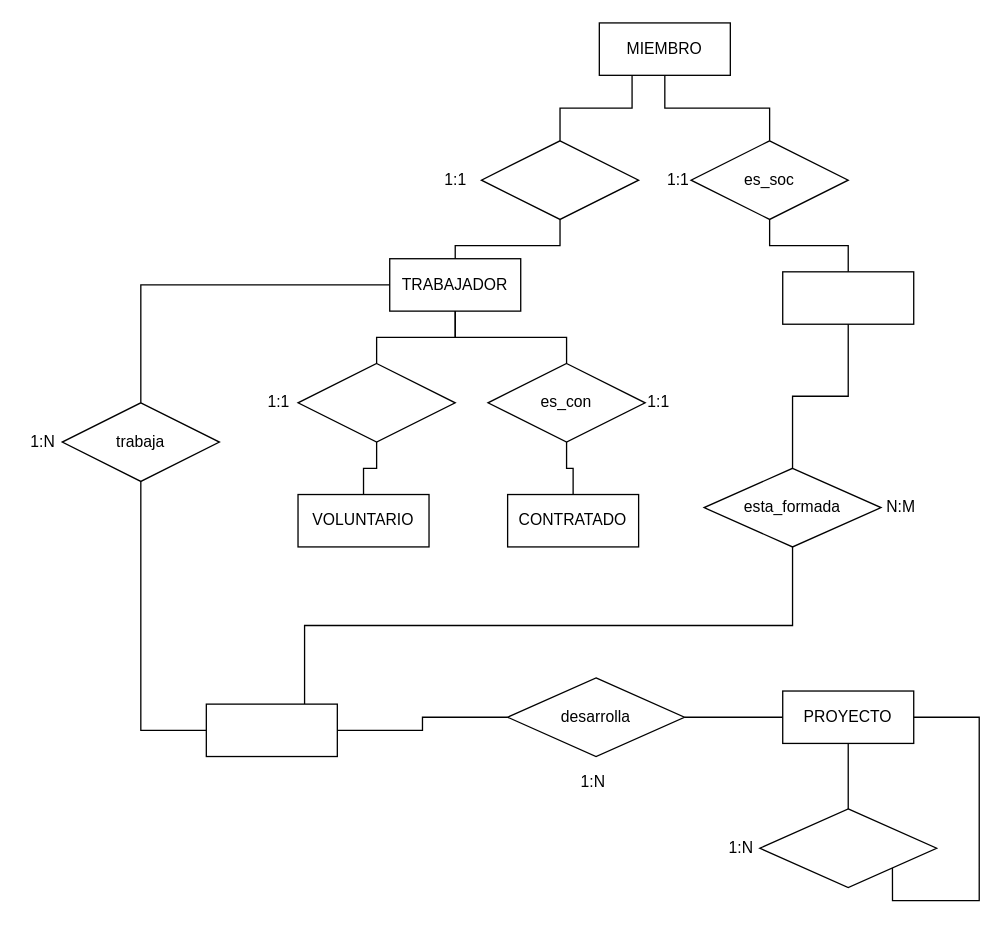
Image size: 1003x925. Some labels were removed from this diagram. The centre of each missing label's shape, as x and y in pixels:
compuesto: the point at 847,848
es_tra: the point at 559,179
es_vol: the point at 376,402
ONG: the point at 271,730
SOCIO: the point at 847,297
